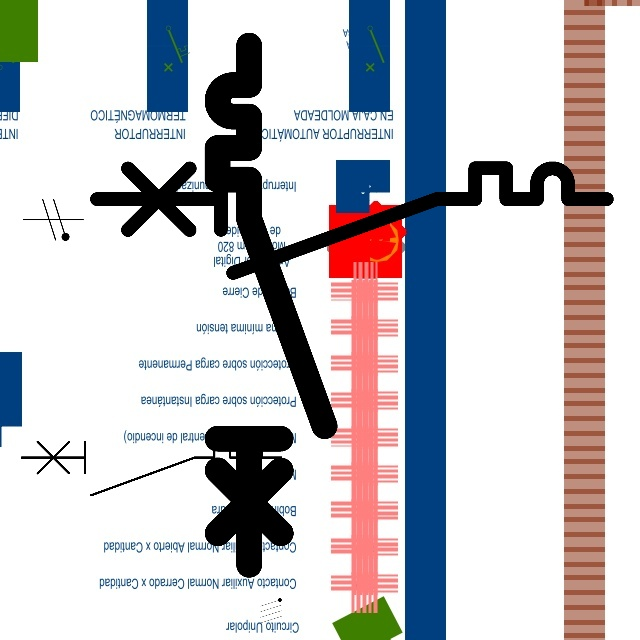interruptor_termomagnetico: (204, 32, 338, 578), (83, 155, 619, 286), (15, 435, 288, 501)
